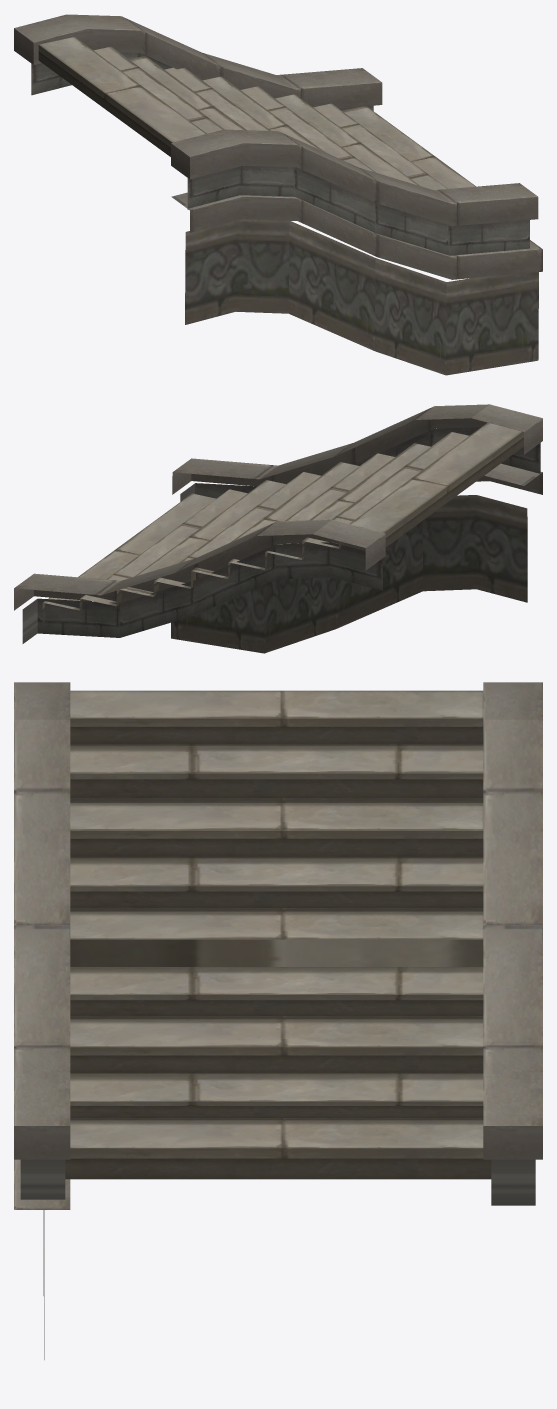
The model's file is cj_luoyang_louti01_55_39_4157out.fbx.
3 renders of one model, top to bottom at view 1: azimuth 30°, elevation 25°; view 2: azimuth 150°, elevation 25°; view 3: azimuth 270°, elevation 25°, orthographic. The views are drawn at different scales.
Parts seen in each view (by area): view 1: 0001_cj_luoyang_louti01, 0000_cj_luoyang_louti01; view 2: 0001_cj_luoyang_louti01, 0000_cj_luoyang_louti01; view 3: 0000_cj_luoyang_louti01, 0001_cj_luoyang_louti01.
Part boxes in pixels (x1,y1,x2,y2): 0001_cj_luoyang_louti01: (14,14,542,375); 0000_cj_luoyang_louti01: (38,37,475,189); 0001_cj_luoyang_louti01: (14,404,542,653); 0000_cj_luoyang_louti01: (42,422,523,622); 0000_cj_luoyang_louti01: (65,690,491,1179); 0001_cj_luoyang_louti01: (14,682,542,1359).
Bounding box in the file's own units: 7.46 × 5.95 × 6.33.
